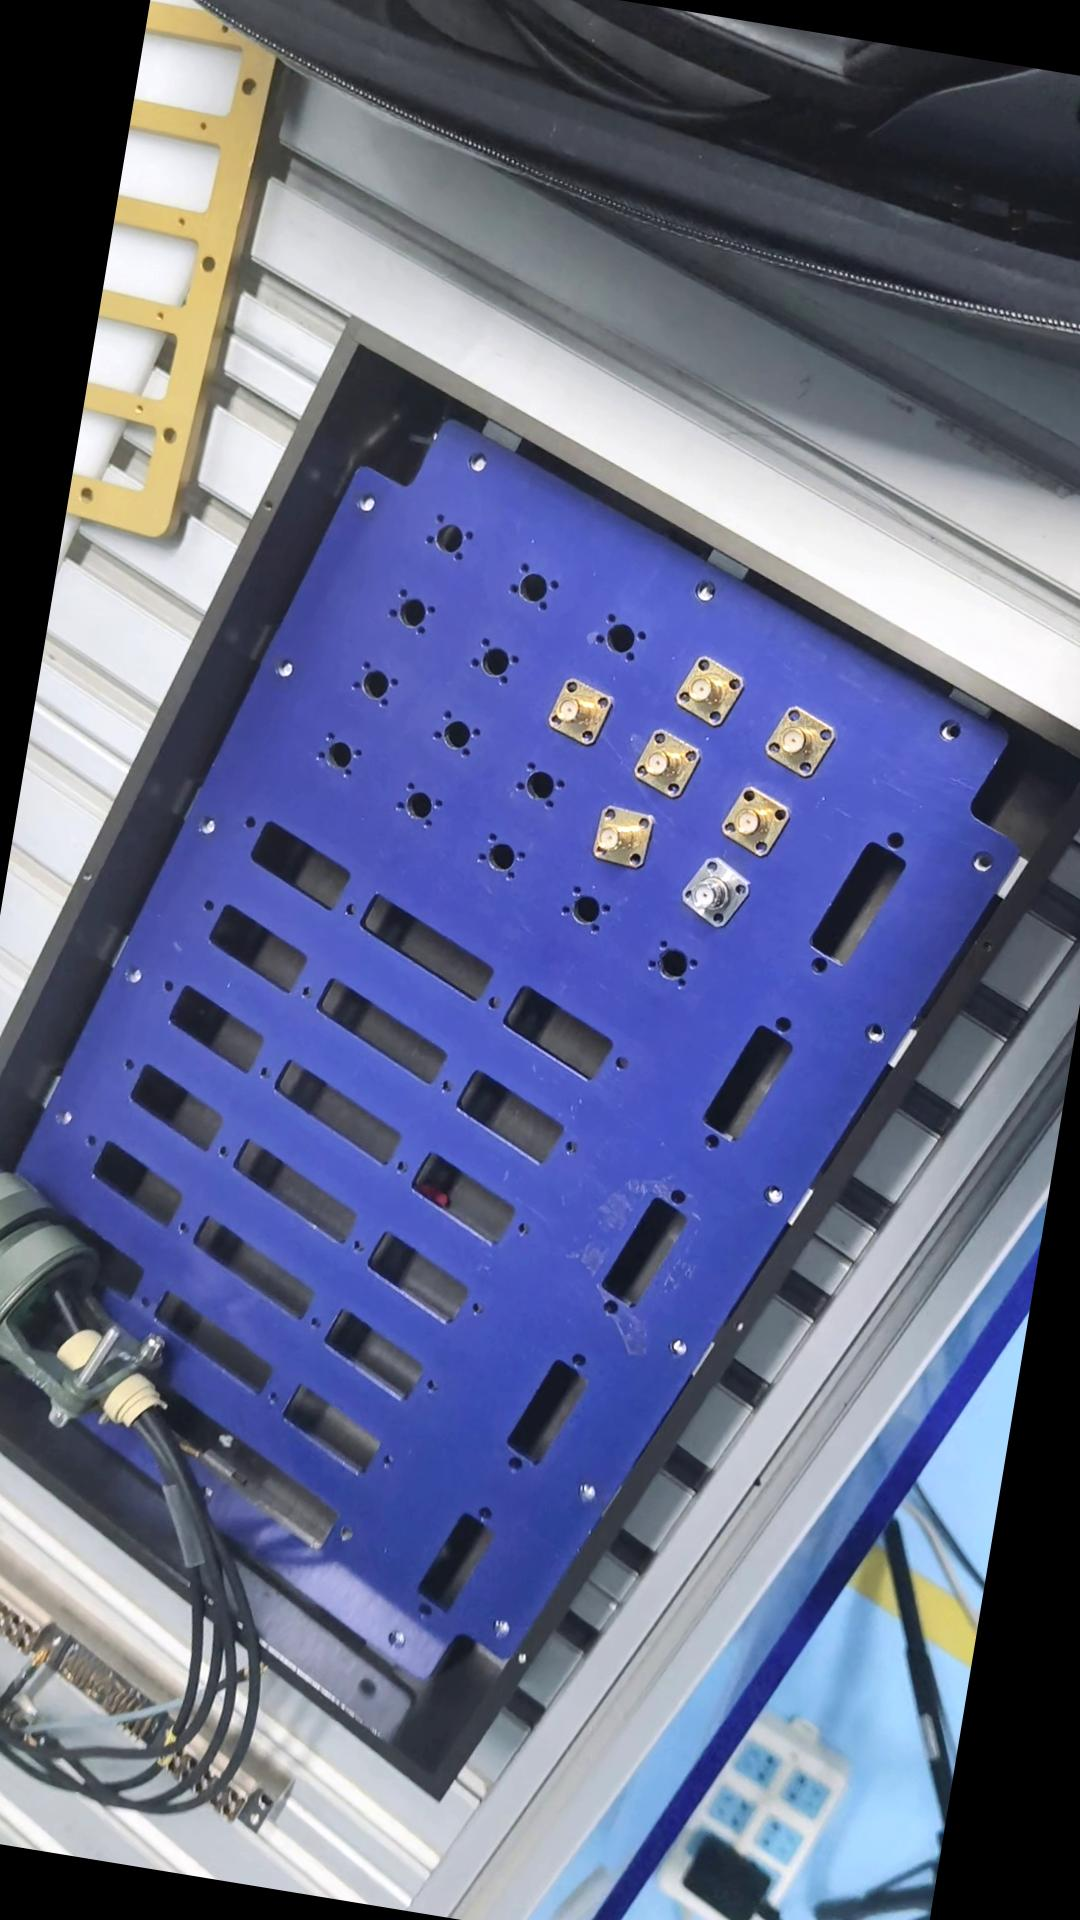SMA: (667, 646, 746, 732), (669, 847, 748, 928), (628, 723, 709, 796), (760, 703, 836, 777), (713, 787, 789, 858), (541, 674, 611, 750), (582, 806, 653, 869)
